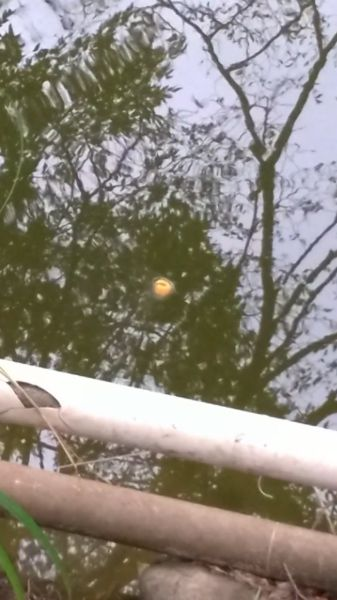eggs: (149, 274, 177, 300)
